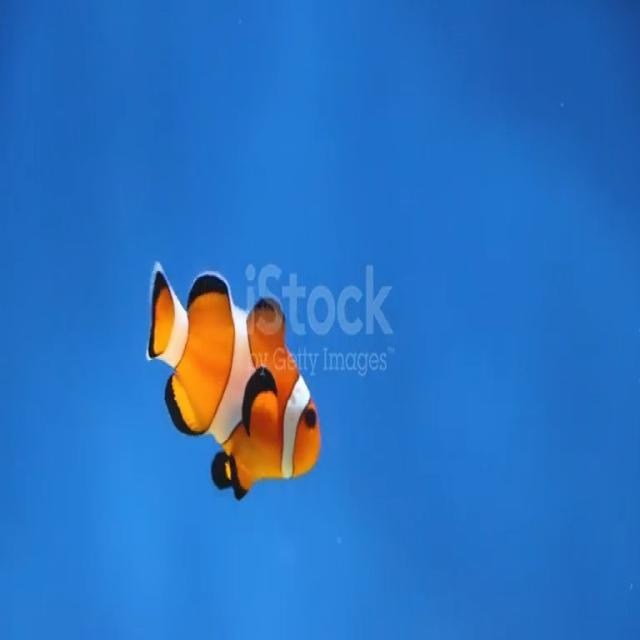fish: (142, 249, 326, 512)
